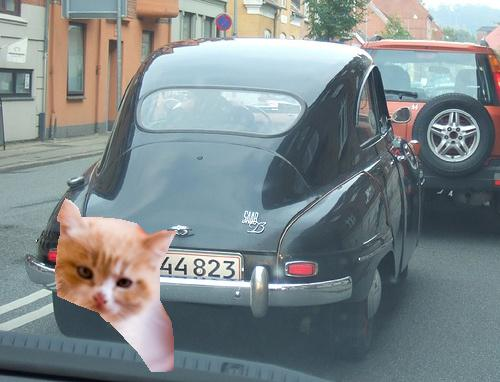tampered: (56, 199, 176, 372)
